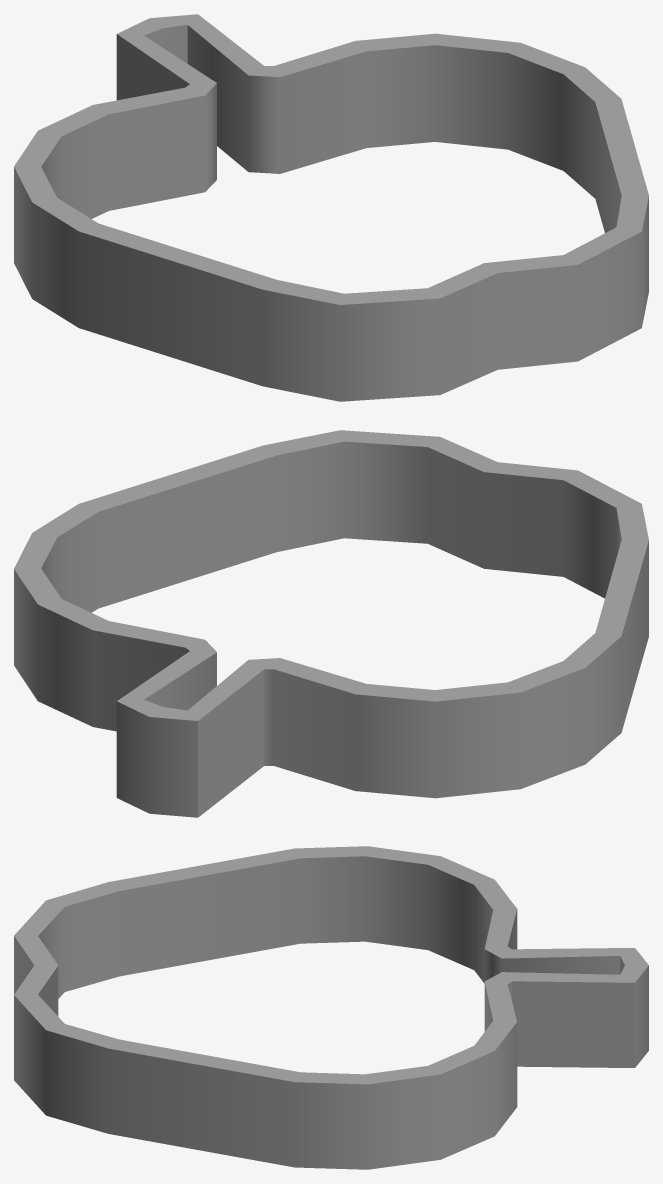
Rendered from BiscuitCutter_Apple_01.fbx.
The picture shows the model from 3 angles, top to bottom: view 1: azimuth 30°, elevation 25°; view 2: azimuth 150°, elevation 25°; view 3: azimuth 270°, elevation 25°; orthographic projection. The views are drawn at different scales.
Visible parts, largest first — view 1: BiscuitCutter_Apple_01; view 2: BiscuitCutter_Apple_01; view 3: BiscuitCutter_Apple_01.
Boxes of the visible parts, <box> form: BiscuitCutter_Apple_01: <box>14,14,648,401</box>; BiscuitCutter_Apple_01: <box>14,430,648,817</box>; BiscuitCutter_Apple_01: <box>14,846,648,1169</box>.
Bounding box in the file's own units: 0.0764 × 0.0128 × 0.086.
